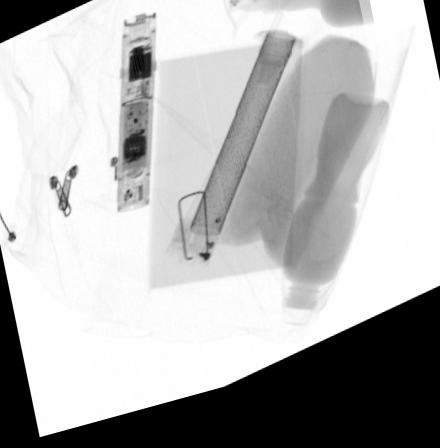Baton: (113, 16, 157, 222)
